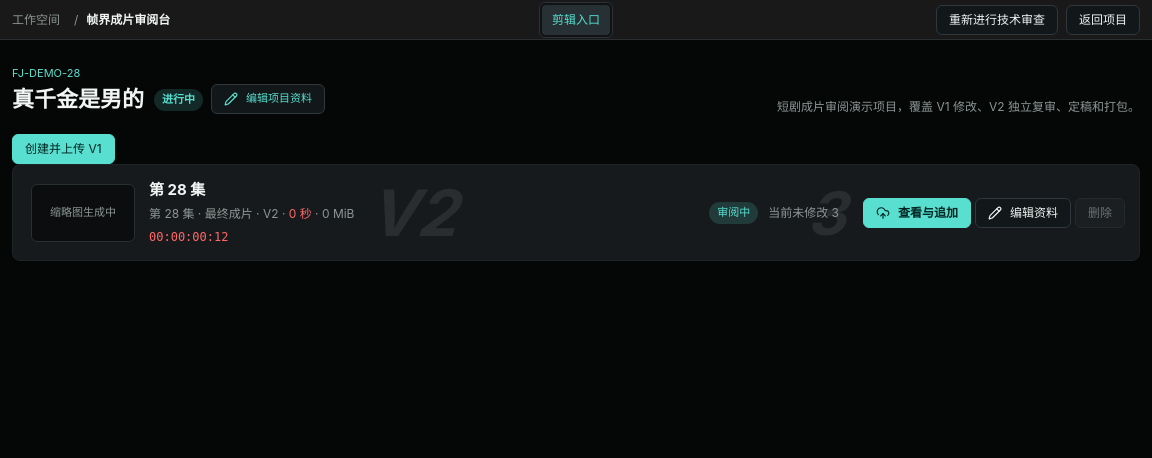
Test: ProjectDetailPage technical QC progress › shows the command failure and restores the rerun action
Click the button "重新进行技术审查" at (997, 20), box [936,4,1058,34]
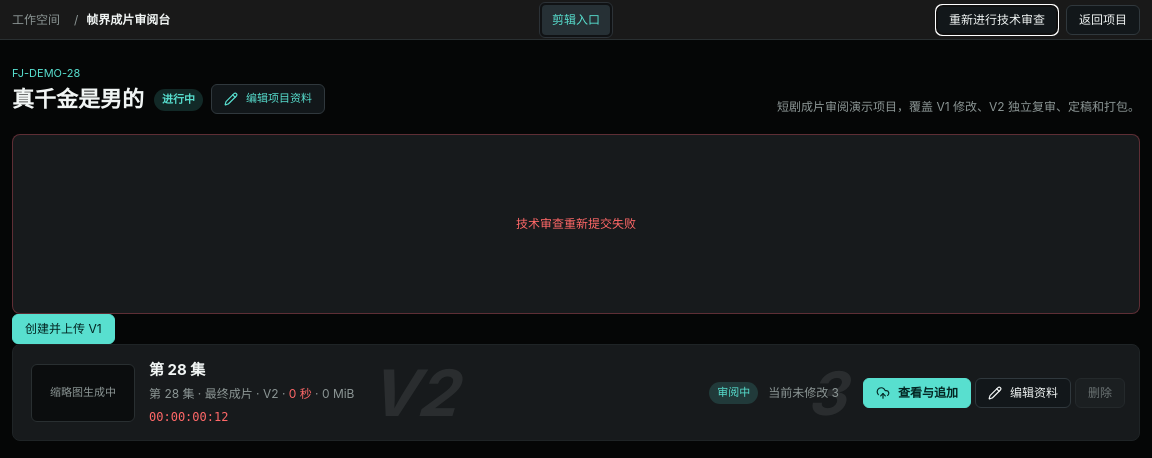
Result: the text "技术审查重新提交失败" is shown at [12,134,1140,314]
